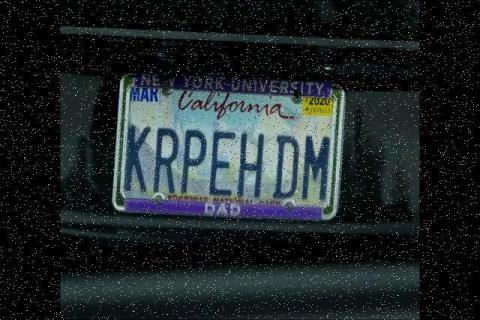LicensePlate: (105, 49, 353, 244)
